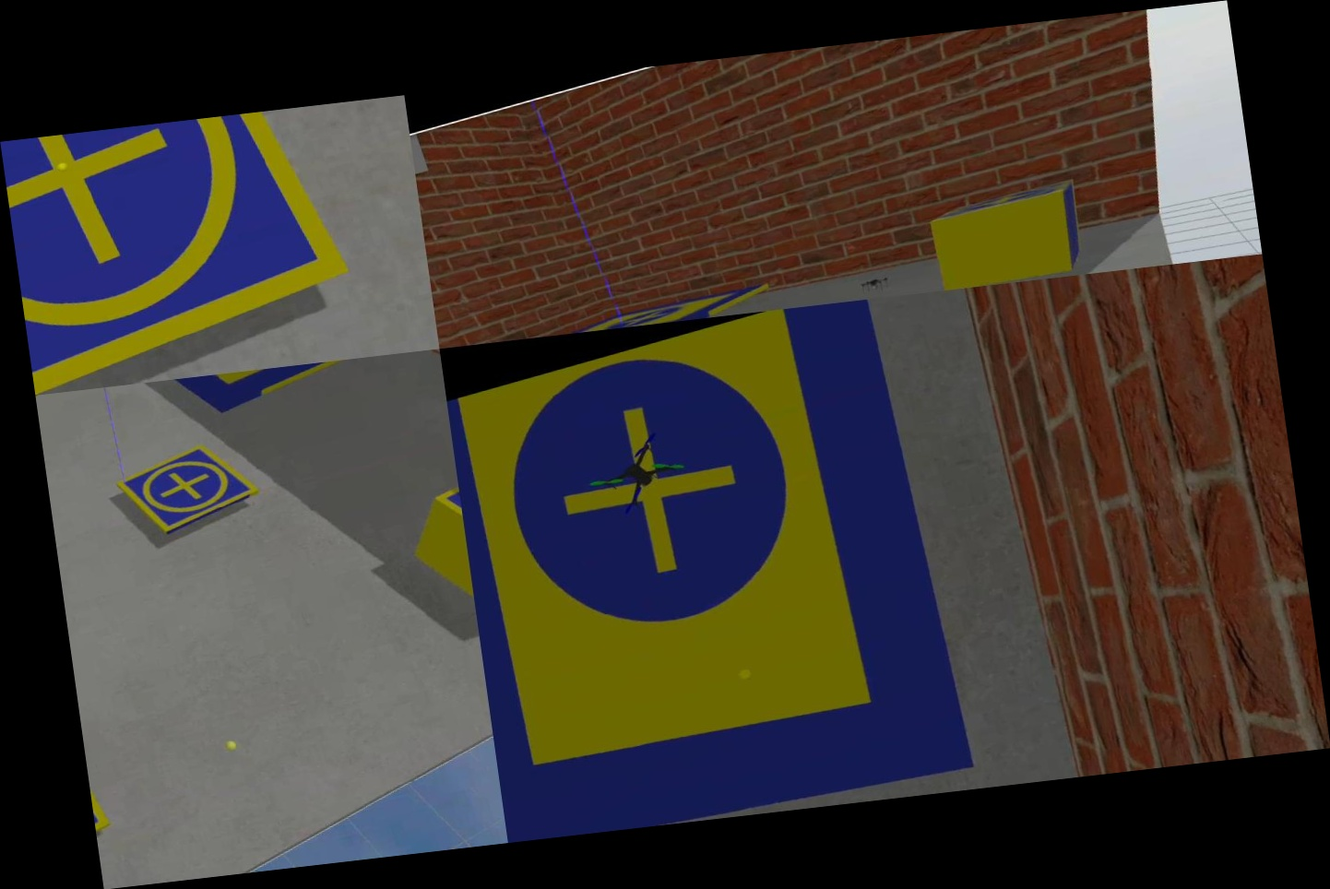large_base: (440, 288, 1032, 842), (505, 266, 781, 340), (157, 354, 395, 423)
small_base: (0, 103, 370, 396), (117, 438, 267, 541), (921, 170, 1085, 235)
